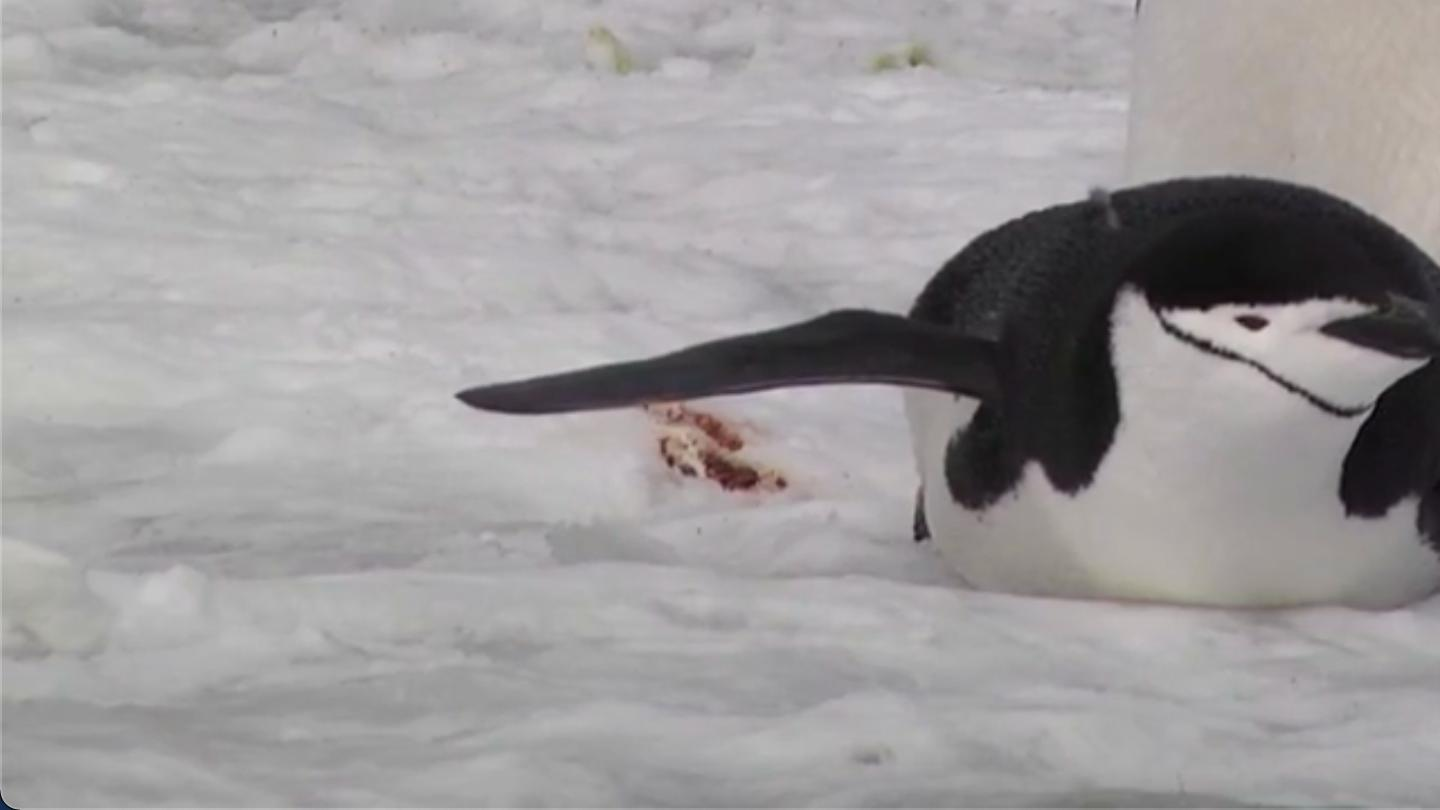Chinstrap Penguin: (466, 139, 1440, 597), (1132, 0, 1440, 121)
